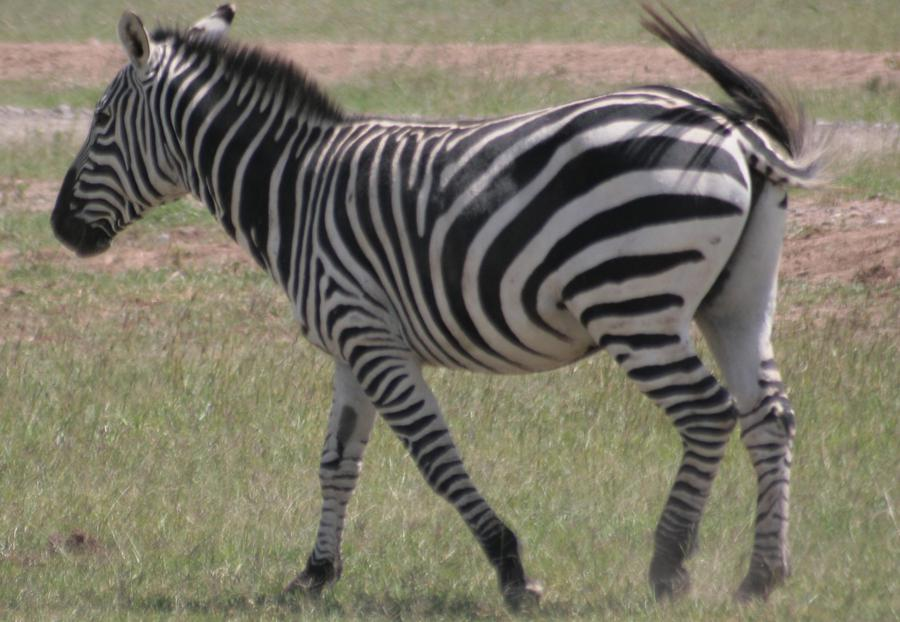zebra_plains: (280, 110, 712, 388)
